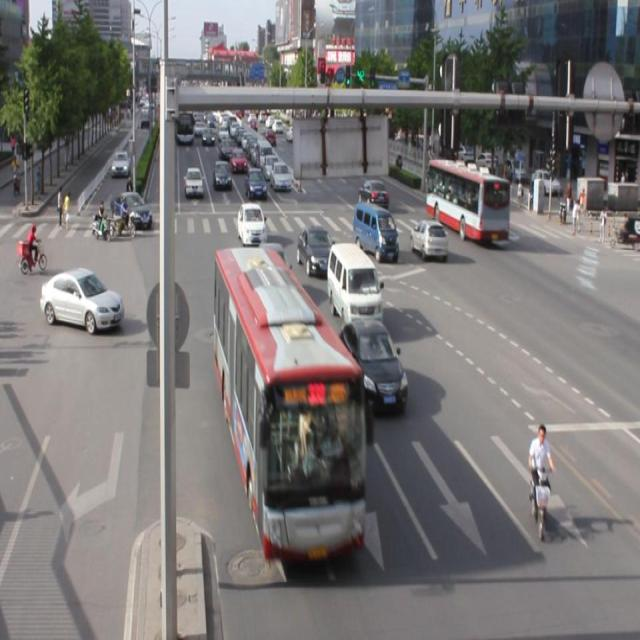car: (338, 318, 407, 414), (298, 225, 336, 278), (410, 218, 447, 260), (237, 200, 266, 244)
truck: (326, 243, 382, 326), (351, 200, 398, 260)
van: (215, 248, 363, 560), (426, 158, 508, 240)
